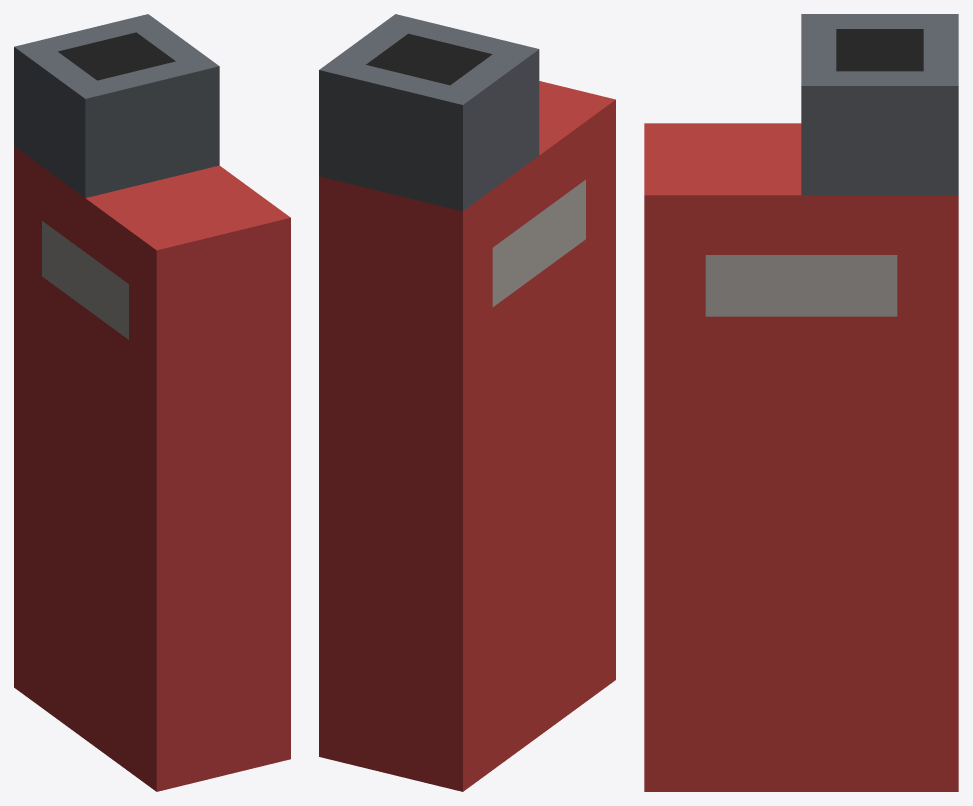
File: AI_Item_Lighter.fbx
3 views of the same model, side by side, from view 1: azimuth 30°, elevation 25°; view 2: azimuth 150°, elevation 25°; view 3: azimuth 270°, elevation 25° (orthographic). The views are drawn at different scales.
Parts seen in each view (by area): view 1: AI_Item_Lighter; view 2: AI_Item_Lighter; view 3: AI_Item_Lighter.
Boxes of the visible parts, x1,y1,x2,y2 form: AI_Item_Lighter: (14,14,290,791); AI_Item_Lighter: (319,14,615,791); AI_Item_Lighter: (644,14,958,791).
Bounding box in the file's own units: 0.0736 × 0.336 × 0.1356.
